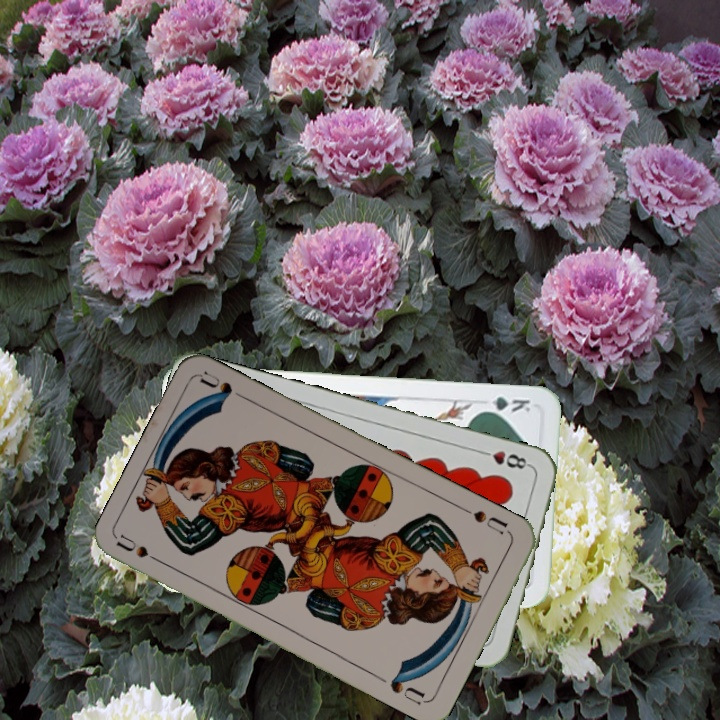GK: (476, 392, 533, 415)
H8: (475, 446, 533, 472)
SU: (114, 531, 171, 569), (458, 503, 510, 537)
